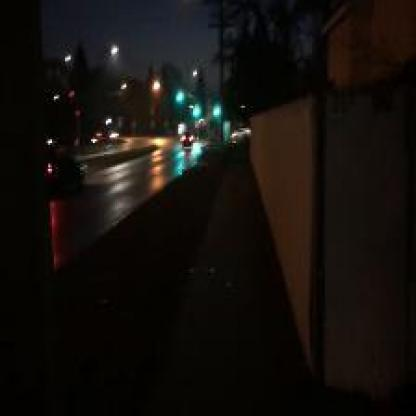other: (37, 151, 65, 268), (143, 118, 171, 182)
